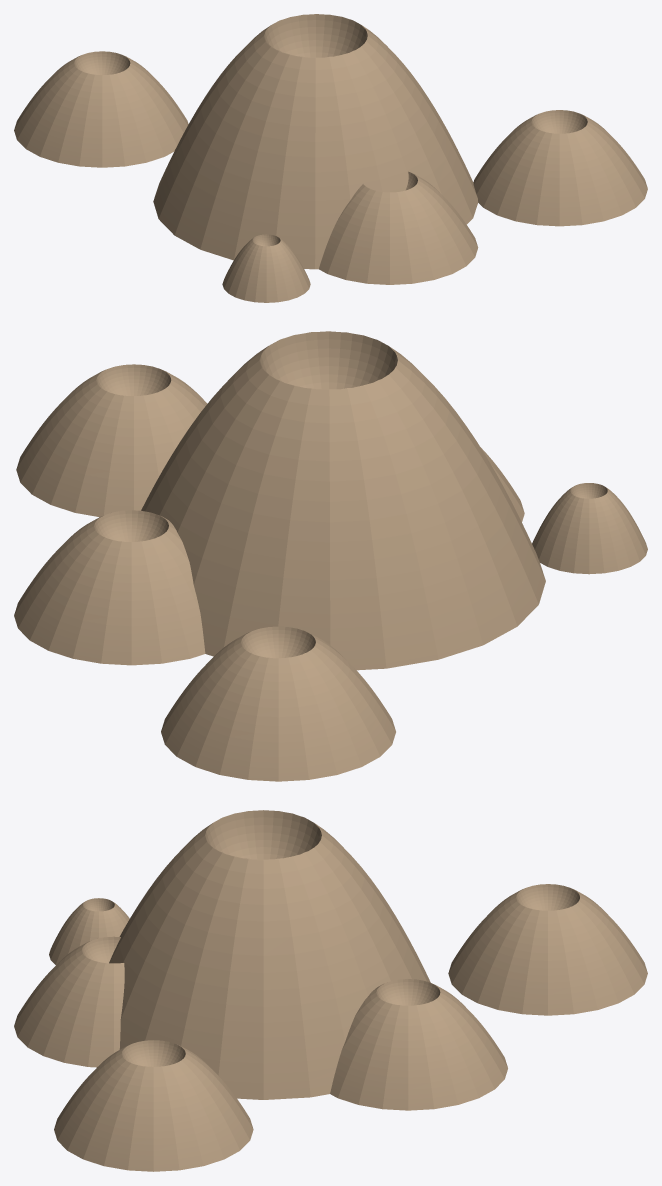
File: Terrific Jarv.glb
3 views of the same model, one above another, from view 1: azimuth 30°, elevation 25°; view 2: azimuth 150°, elevation 25°; view 3: azimuth 270°, elevation 25° (orthographic). The views are drawn at different scales.
Visible parts, largest first — view 1: Mesh_Mesh_head_geo.001_lambert2SG.001; view 2: Mesh_Mesh_head_geo.001_lambert2SG.001; view 3: Mesh_Mesh_head_geo.001_lambert2SG.001.
Part boxes in pixels (left/top/right/bottom): Mesh_Mesh_head_geo.001_lambert2SG.001: left=14, top=14, right=647, bottom=302; Mesh_Mesh_head_geo.001_lambert2SG.001: left=14, top=331, right=647, bottom=781; Mesh_Mesh_head_geo.001_lambert2SG.001: left=14, top=810, right=647, bottom=1171.
Bounding box in the file's own units: 114 × 41.4 × 127.
